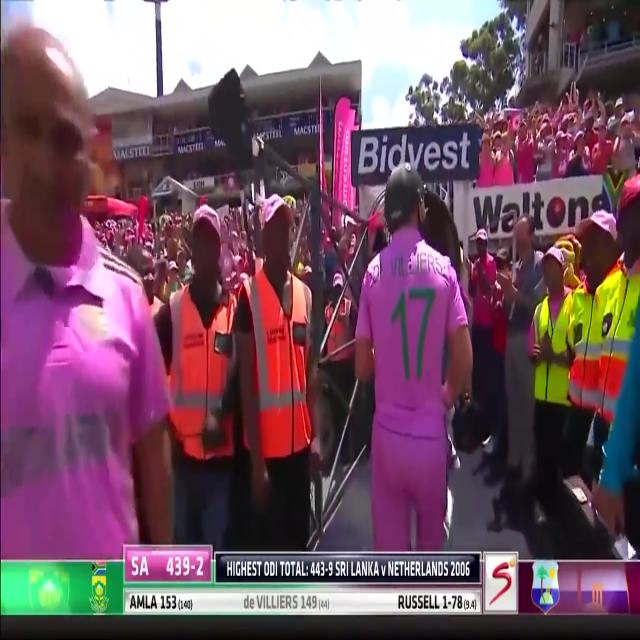Ball: (315, 168, 477, 552)
